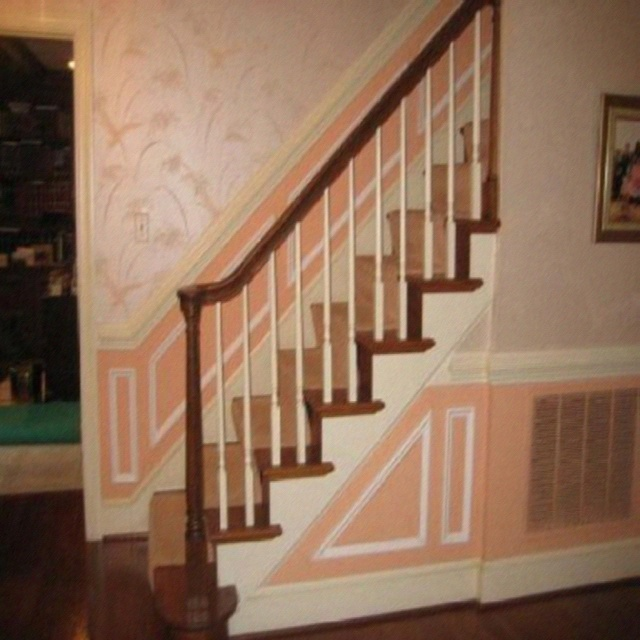stair: (148, 115, 503, 640)
